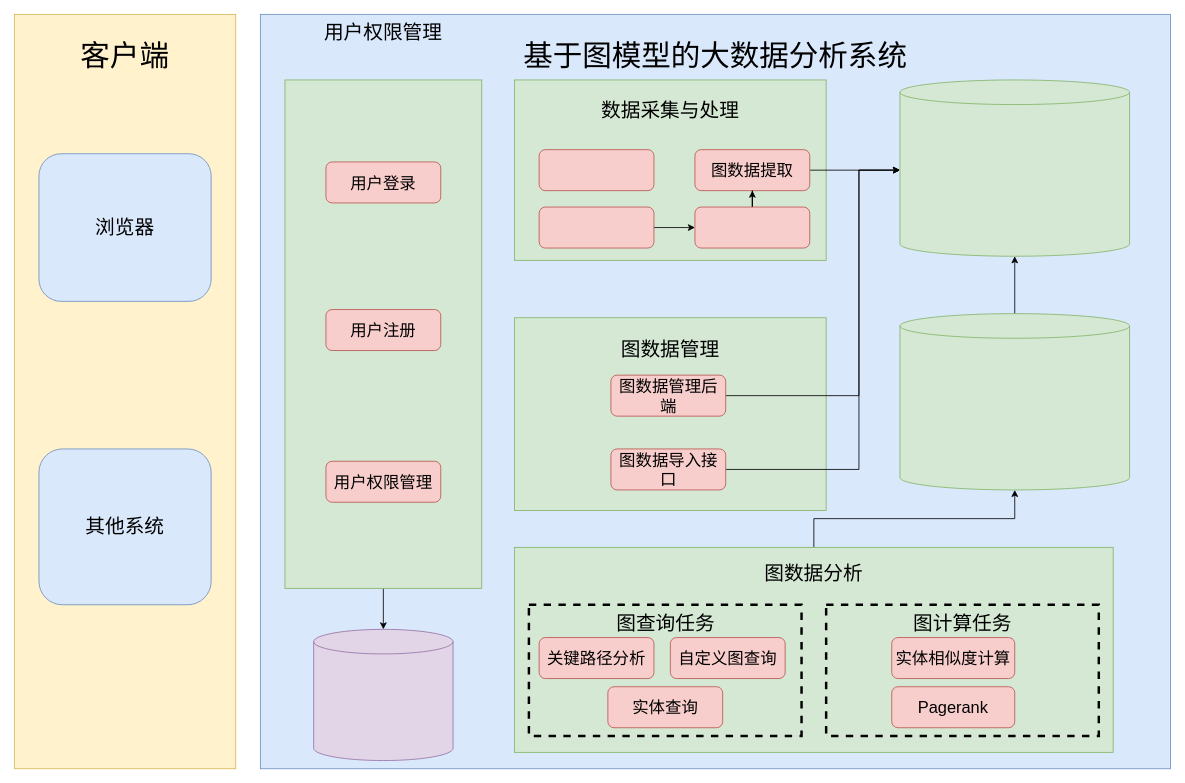
Some shapes in this 1185 by 783 pixel diagram are drawn without their labels. The centre of each missing label's shape, as x and y in pixels:
"图数据库 HugeGraph" belongs at (1014,167).
"数据采集脚本" belongs at (596,170).
"用户数据库 MySQL" belongs at (383,695).
"缓存数据库 Redis" belongs at (1014,401).
"脚本执行" belongs at (752,227).
"采集脚本执行配置" belongs at (596,227).
